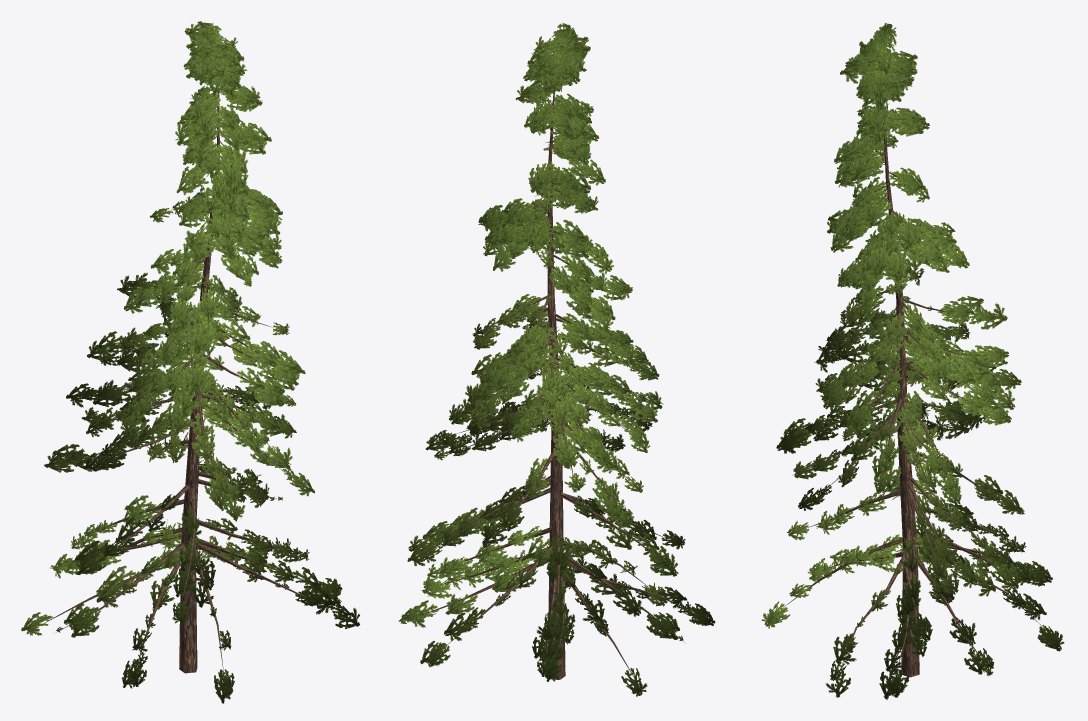
File: eztree-pine-small.glb
3 renders of one model, left to right at view 1: azimuth 30°, elevation 25°; view 2: azimuth 150°, elevation 25°; view 3: azimuth 270°, elevation 25°, orthographic. The views are drawn at different scales.
Visible parts, largest first — view 1: LOD0; view 2: LOD0; view 3: LOD0.
Part boxes in pixels (x1,y1,x2,y2): LOD0: (21, 21, 359, 703); LOD0: (398, 23, 715, 696); LOD0: (761, 23, 1064, 699).
Size of what is drawn, in the model's own units: 3.17 by 7 by 3.12.
Materials: 2 (2 with a texture image).
